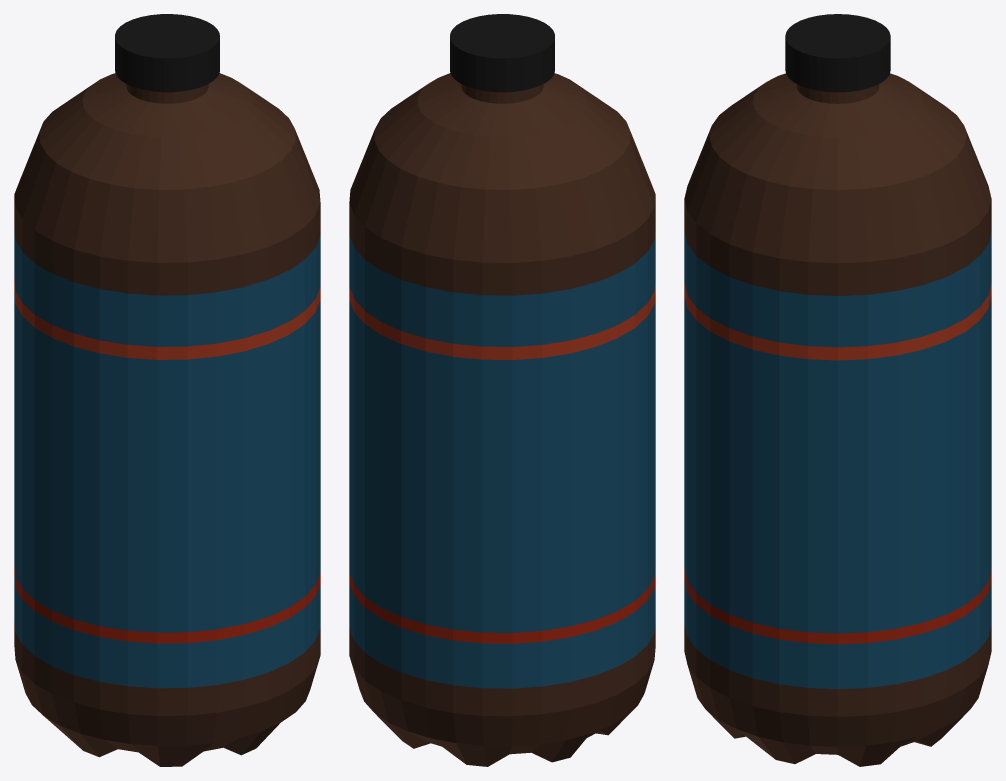
Rendered from Large Cola Drink.fbx.
3 views of the same model, side by side, from view 1: azimuth 30°, elevation 25°; view 2: azimuth 150°, elevation 25°; view 3: azimuth 270°, elevation 25° (orthographic).
Parts seen in each view (by area): view 1: Large Cola Drink; view 2: Large Cola Drink; view 3: Large Cola Drink.
Part boxes in pixels (left/top/right/bottom): Large Cola Drink: left=14, top=14, right=320, bottom=766; Large Cola Drink: left=349, top=14, right=655, bottom=766; Large Cola Drink: left=684, top=14, right=991, bottom=766.
Size of the model in its own units: 26.65 by 65.54 by 26.65.
1 material, 1 textured.
